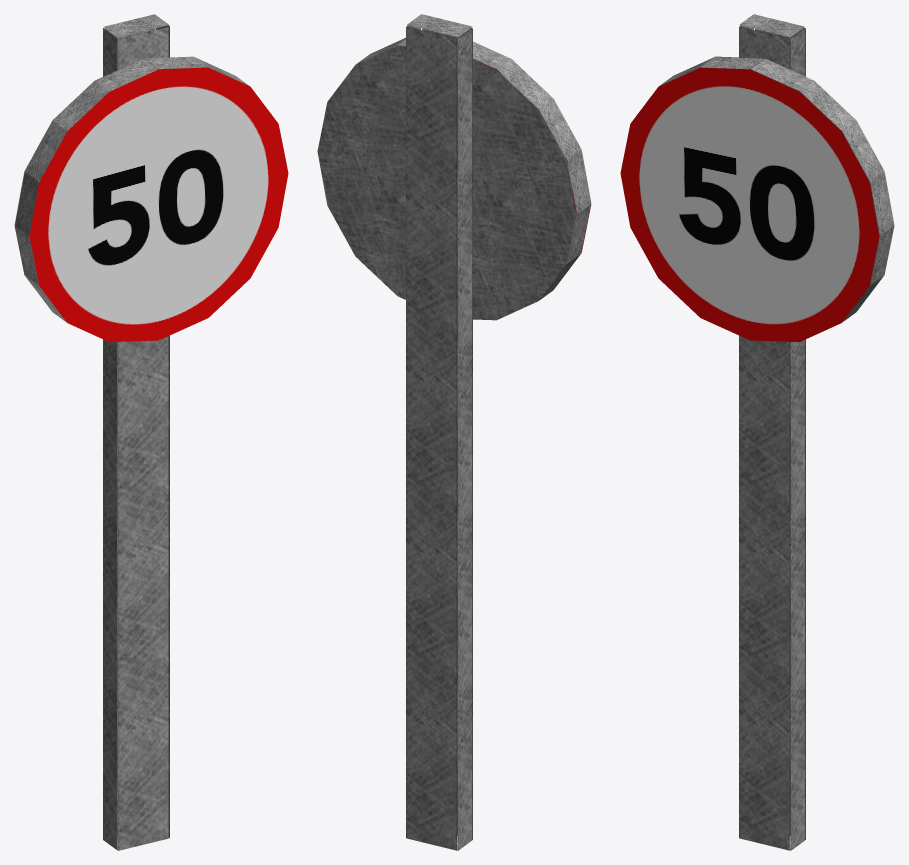
Rendered from SpeedSign50.fbx.
The picture shows the model from 3 angles, left to right: view 1: azimuth 30°, elevation 25°; view 2: azimuth 150°, elevation 25°; view 3: azimuth 330°, elevation 25°; orthographic projection.
Visible parts, largest first — view 1: Senyal Obligatori gir R; view 2: Senyal Obligatori gir R; view 3: Senyal Obligatori gir R.
Part boxes in pixels (x1,y1,x2,y2): Senyal Obligatori gir R: [14, 14, 288, 850]; Senyal Obligatori gir R: [317, 14, 591, 850]; Senyal Obligatori gir R: [620, 14, 894, 850].
Bounding box in the file's own units: 100 × 300 × 20.
1 material, 1 textured.
